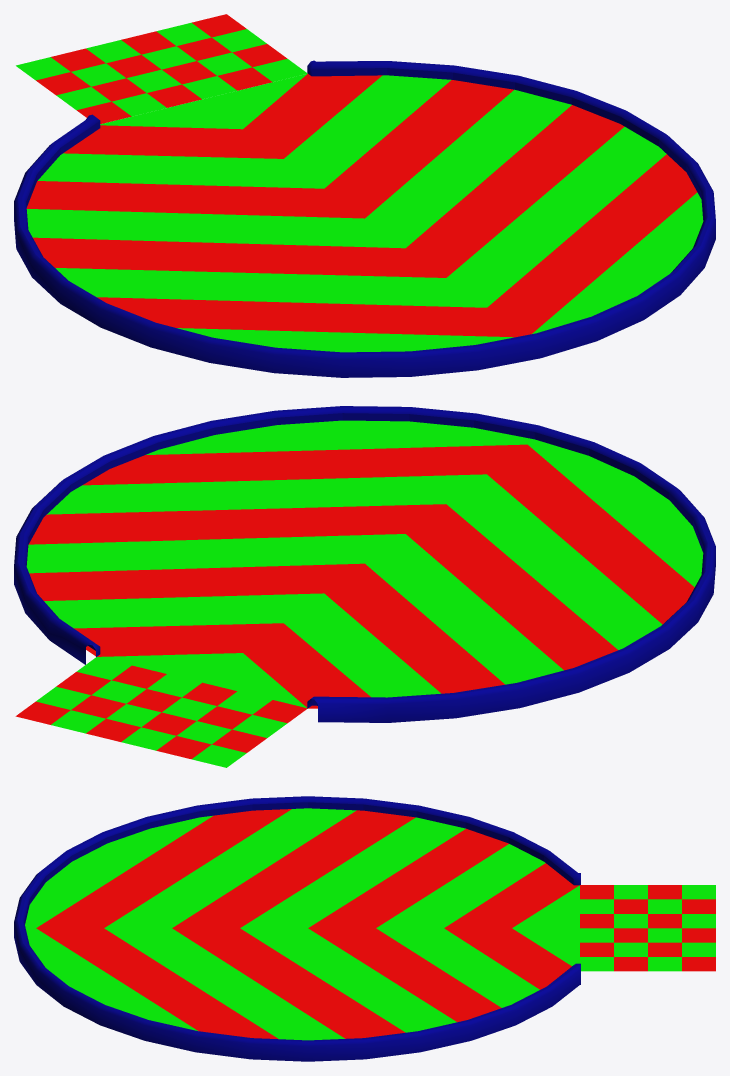
Rendered from ARENA_END.fbx.
The picture shows the model from 3 angles, top to bottom: view 1: azimuth 30°, elevation 25°; view 2: azimuth 150°, elevation 25°; view 3: azimuth 270°, elevation 25°; orthographic projection. The views are drawn at different scales.
Visible parts, largest first — view 1: Arena; view 2: Arena; view 3: Arena.
Part boxes in pixels (left/top/right/bottom): Arena: left=14, top=14, right=715, bottom=377; Arena: left=14, top=406, right=715, bottom=767; Arena: left=14, top=796, right=715, bottom=1061.
Bounding box in the file's own units: 1730 × 60 × 2065.
